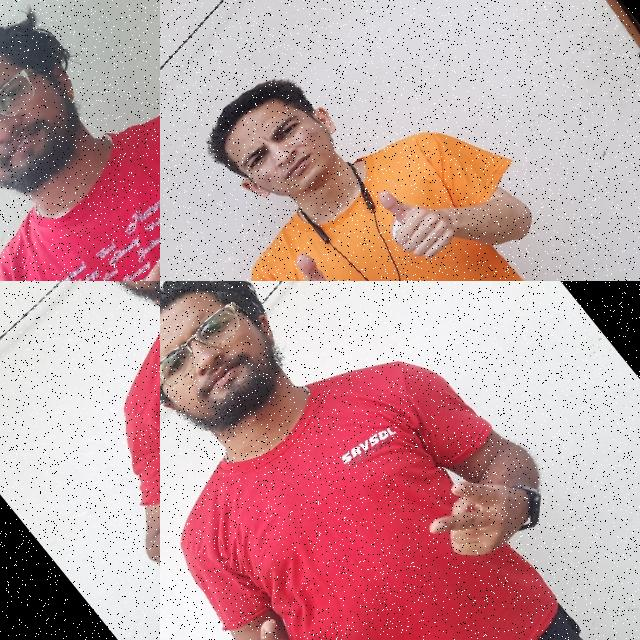Five Fathers: (0, 164, 160, 281)
Reversed Victory: (404, 445, 550, 589), (194, 598, 344, 640)
Thumbs Up: (361, 167, 470, 281), (256, 239, 374, 281)
